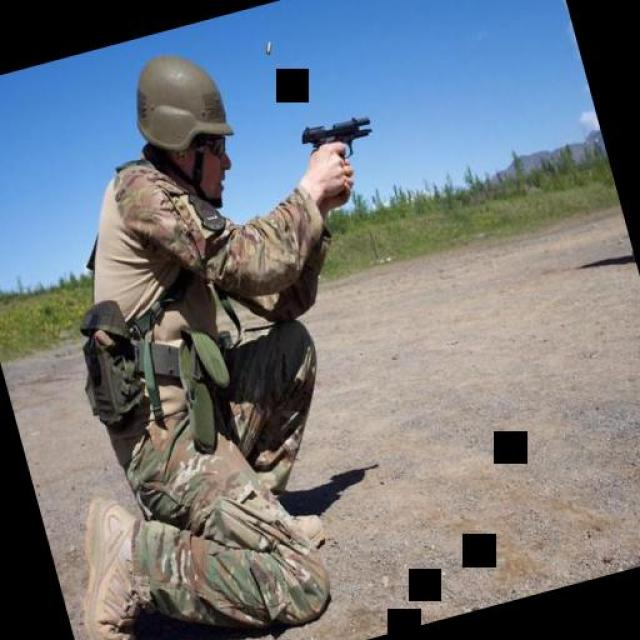gun: (294, 106, 384, 186)
